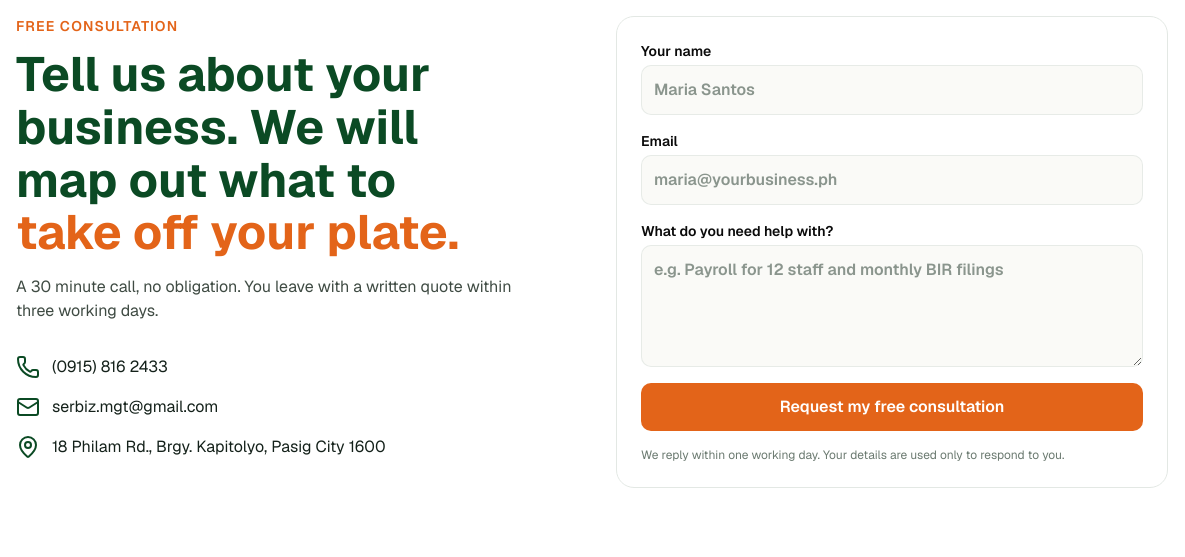
Test: v1 consultation form › points the failed field at the message explaining why
Click the button "Request my free consultation". click: (892, 407)
box: [641,383,1143,431]
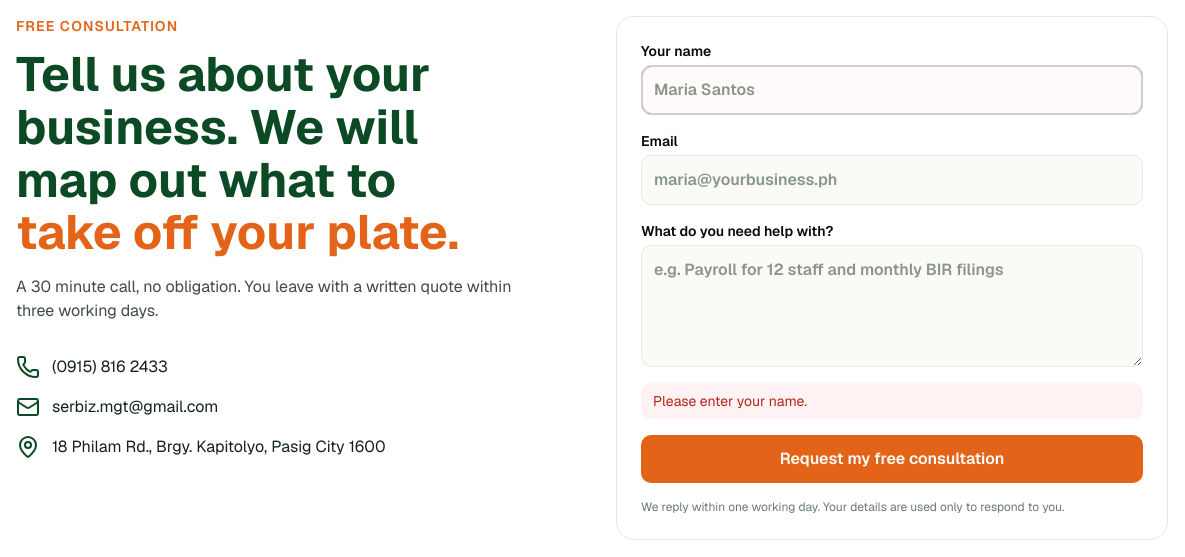
Now the message "Please enter your name." is shown, box [641,383,1143,419]
